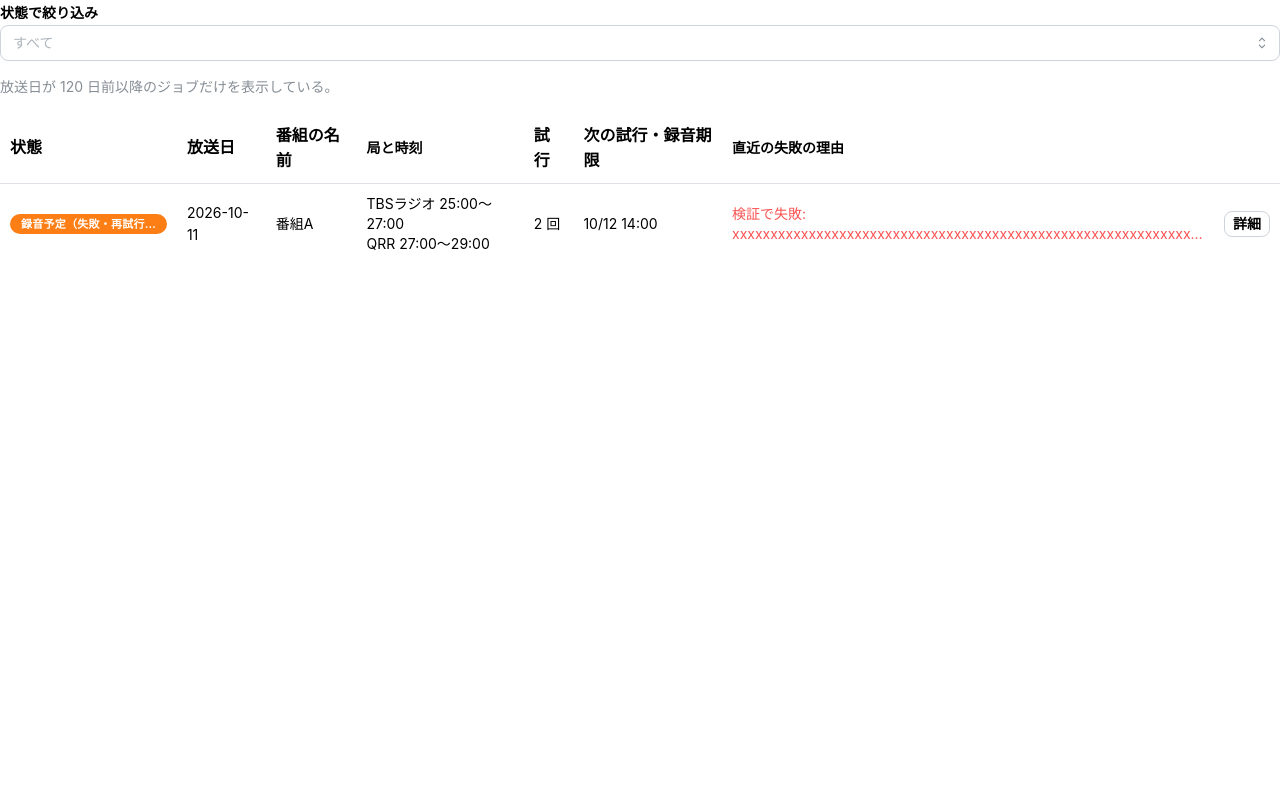
JobsPage › PC の表で、複数の局は 1 つのセルに縦に並べ、失敗の理由は切り、行を押すと詳細を開く
Expected: the text "TBSラジオ 25:00〜27:00" is shown, left=366, top=194, right=514, bottom=234
Expected: the text "QRR 27:00〜29:00" is shown, left=366, top=235, right=490, bottom=252
Step 1. Click the row with test id "job" → (640, 224), box left=0, top=183, right=1279, bottom=265
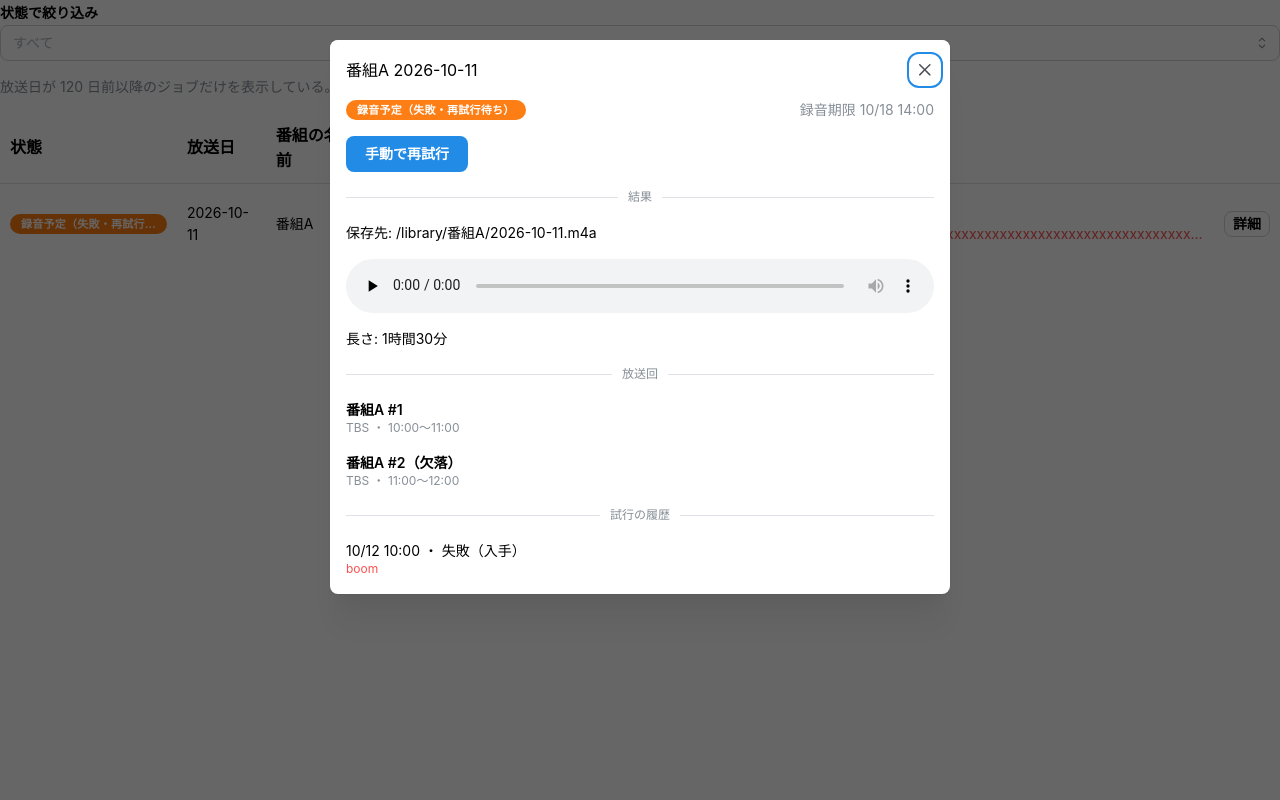
Expected: the text "保存先: /library/番組A/2026-10-11.m4a" is shown, left=346, top=224, right=597, bottom=241
